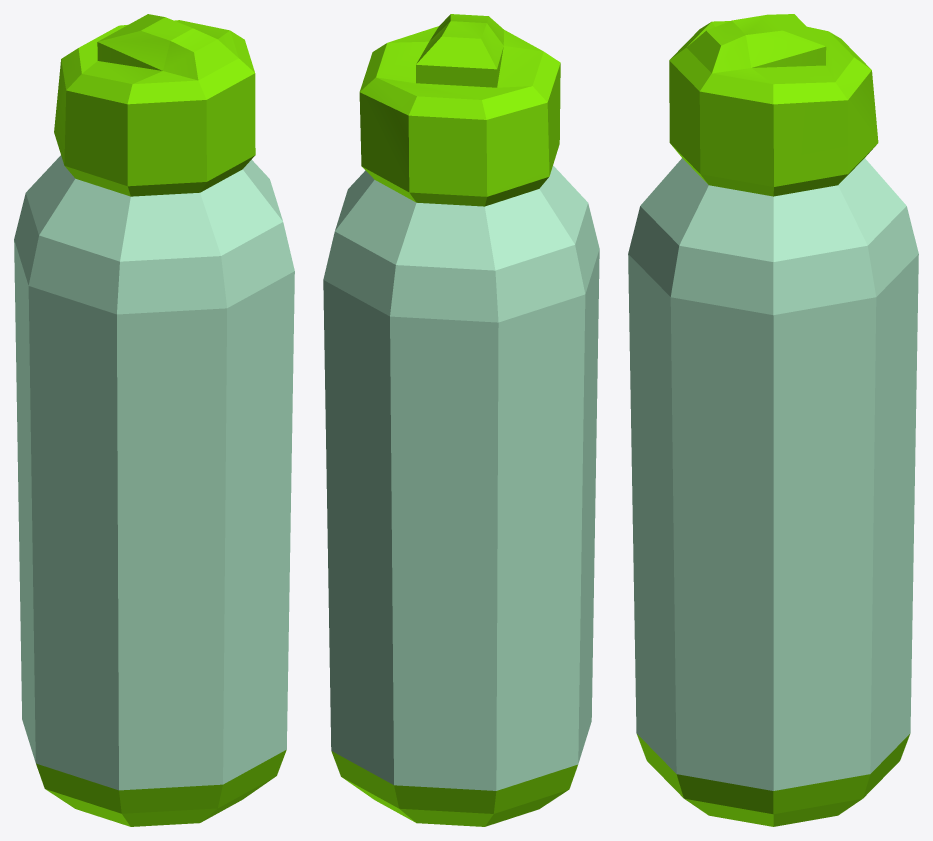
Rendered from WaterFilter.fbx.
3 views of the same model, side by side, from view 1: azimuth 30°, elevation 25°; view 2: azimuth 150°, elevation 25°; view 3: azimuth 270°, elevation 25° (orthographic).
Visible parts, largest first — view 1: WaterFilter; view 2: WaterFilter; view 3: WaterFilter.
Part boxes in pixels (x1=…): WaterFilter: x1=14, y1=14, x2=294, y2=826; WaterFilter: x1=323, y1=14, x2=599, y2=826; WaterFilter: x1=628, y1=14, x2=918, y2=826.
Bounding box in the file's own units: 0.0955 × 0.0955 × 0.2773.
